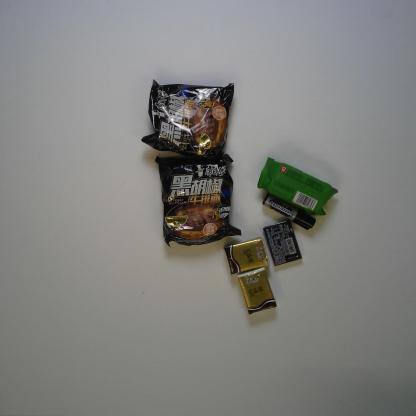Dessert: (256, 156, 339, 216)
Gum: (262, 218, 302, 267)
Instant Noodles: (154, 152, 242, 248), (140, 78, 235, 160)
Stationery: (261, 192, 317, 231)
Tissue: (236, 266, 277, 316), (223, 236, 271, 276)
